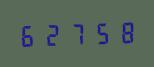eight: (110, 18, 132, 45)
five: (87, 19, 109, 45)
seven: (64, 20, 86, 46)
six: (18, 22, 40, 48)
two: (41, 21, 63, 47)
